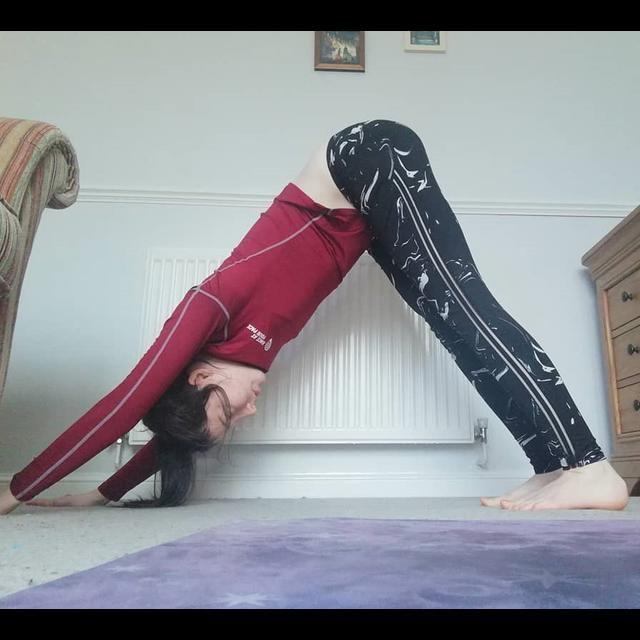Downward-Facing_Dog: (1, 105, 635, 525)
